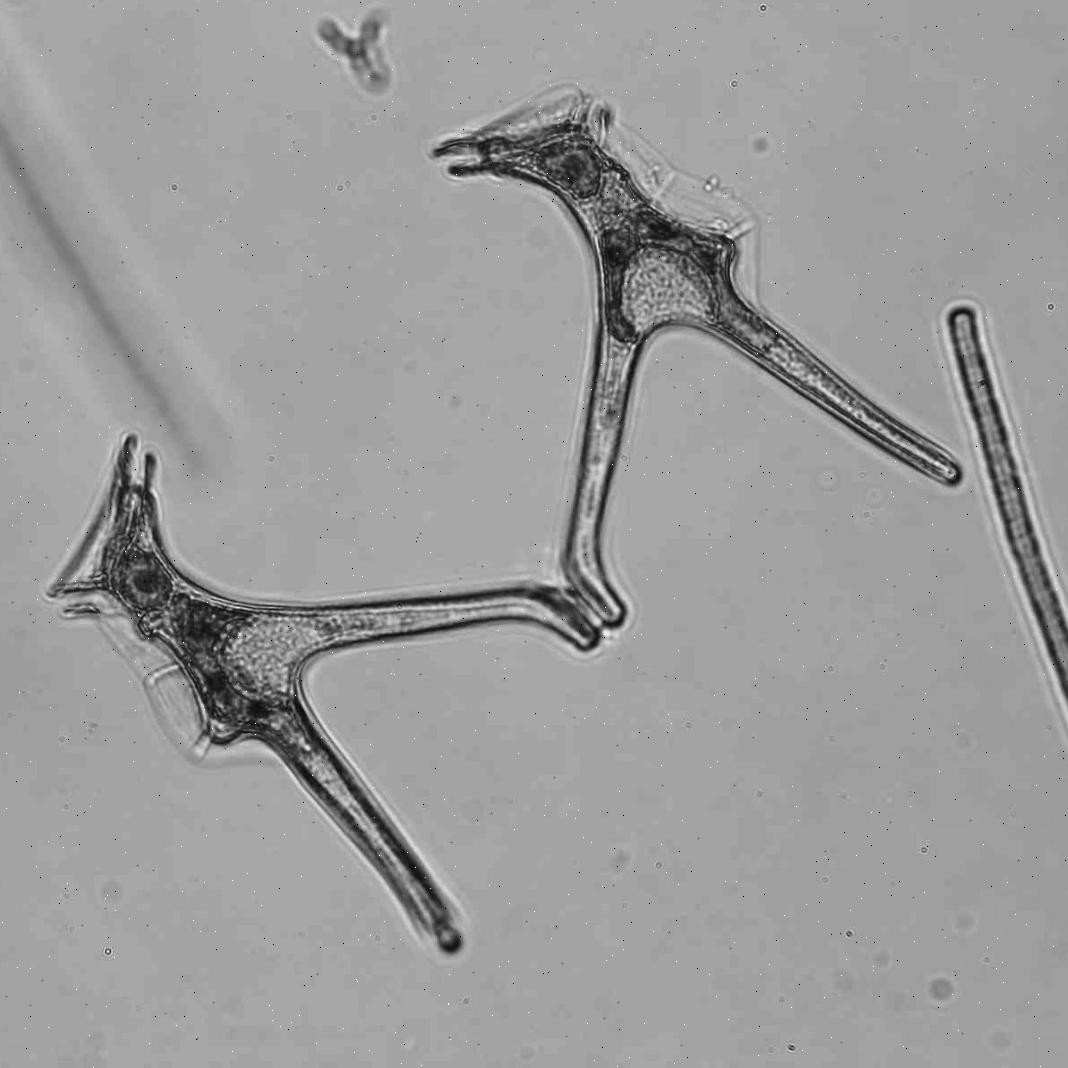dinophysis_miles: (47, 431, 591, 953), (429, 100, 957, 626)
